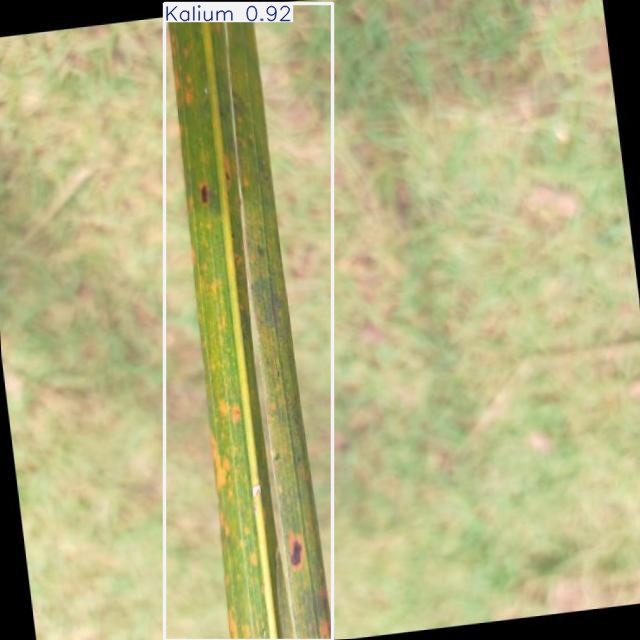Kalium: (165, 3, 333, 640)
